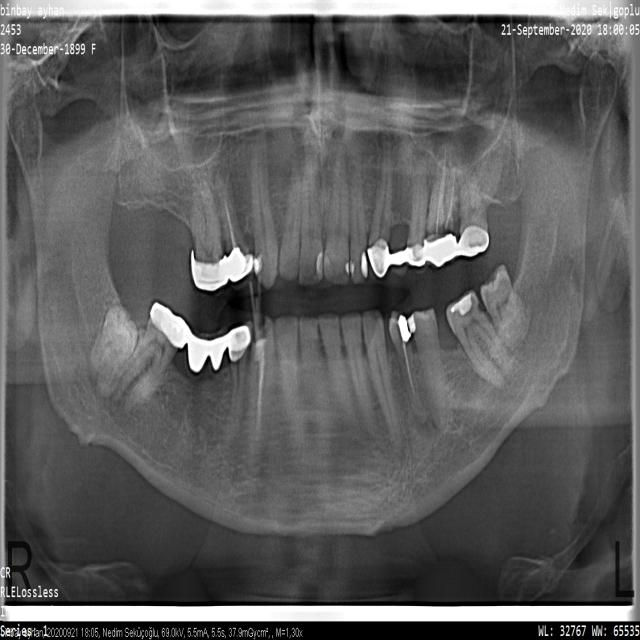Canine: (363, 311, 397, 435), (253, 128, 278, 289), (249, 315, 275, 465), (369, 133, 391, 283)
Incisores: (341, 314, 378, 431), (319, 314, 355, 417), (300, 125, 323, 286), (325, 127, 348, 285), (279, 137, 303, 280), (275, 316, 299, 423), (299, 318, 327, 409), (350, 147, 367, 283)
Premolars: (218, 321, 252, 445), (413, 308, 447, 429), (216, 173, 251, 284), (389, 312, 423, 409), (407, 153, 428, 265)
molars: (110, 309, 183, 412), (446, 291, 514, 388), (90, 306, 138, 393), (189, 329, 226, 431), (191, 174, 223, 286), (425, 157, 458, 262), (480, 264, 523, 342), (460, 182, 488, 247)
